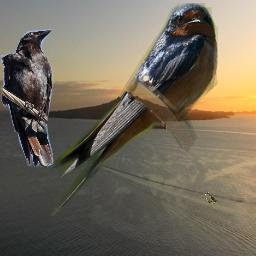Crow: (1, 28, 54, 167)
Cuckoo: (203, 191, 218, 204)
Swallow: (50, 3, 218, 216)
